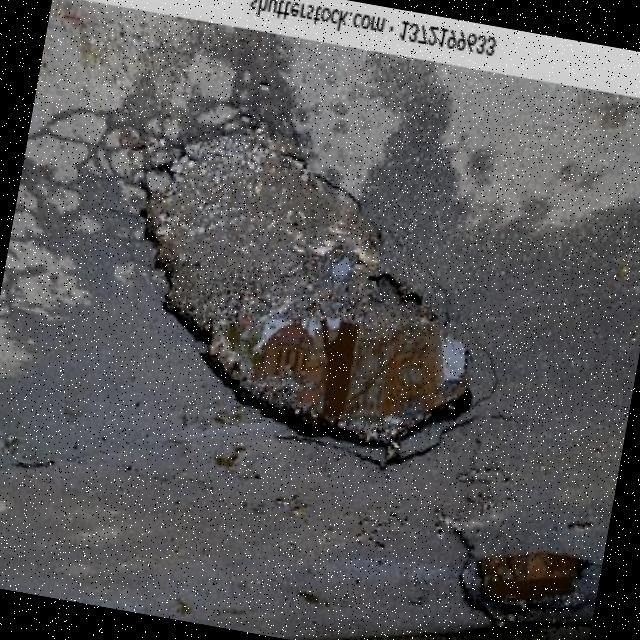Pothole: (142, 135, 474, 464)
